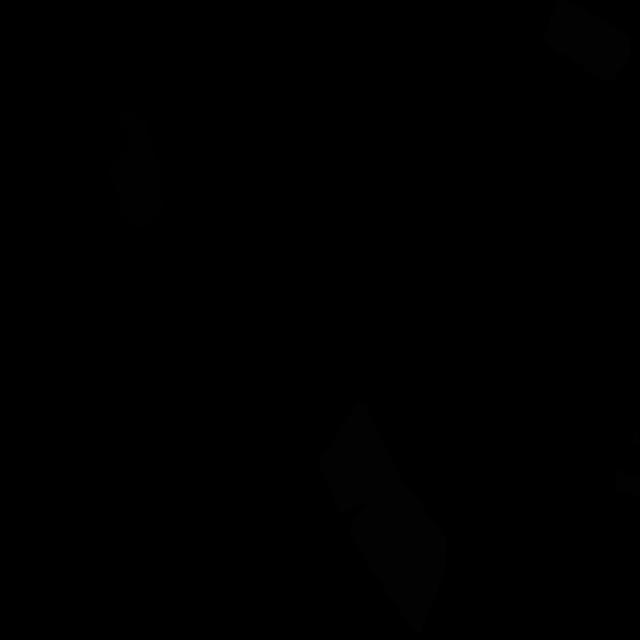cardboard: (318, 403, 447, 633), (541, 0, 630, 83), (613, 468, 640, 497), (633, 430, 640, 445)
rigid_plastic: (108, 109, 164, 228)
